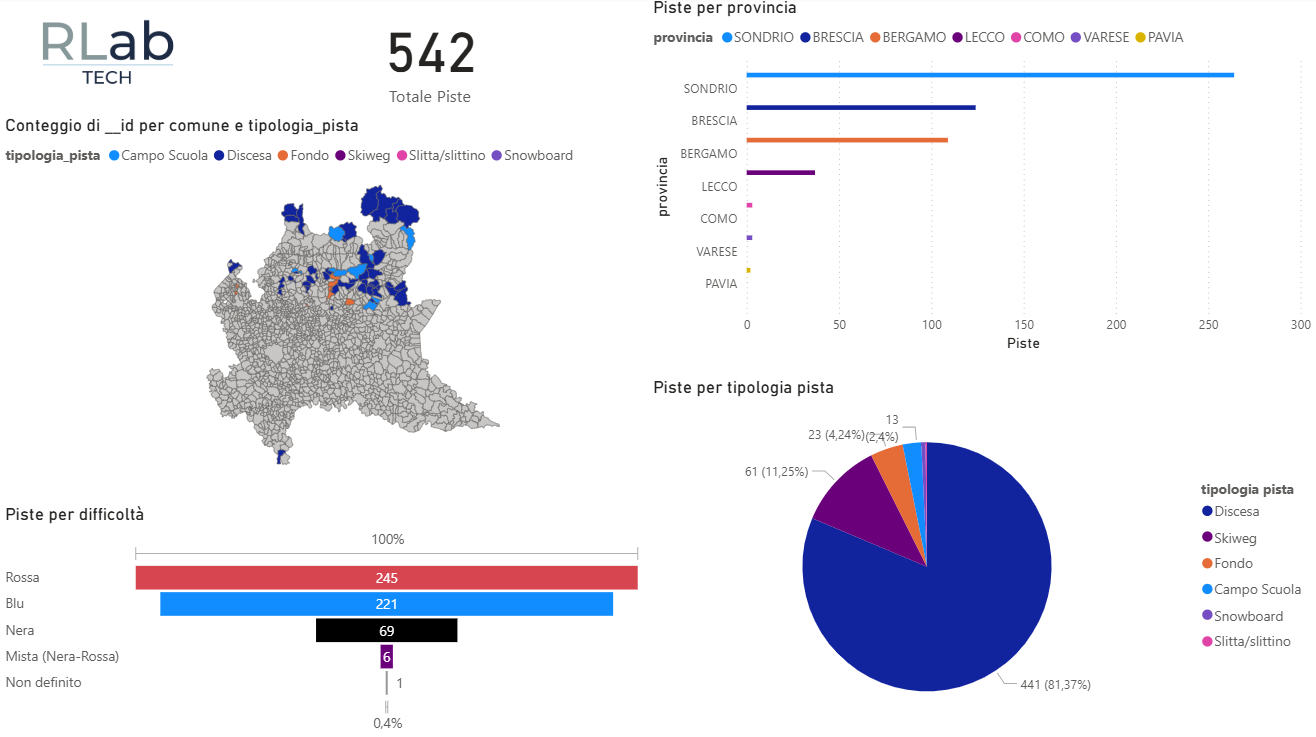

The page's visual inventory and layout, read from the dashboard file:
{"tool":"powerbi","page":{"name":"Globale","canvas":[1280,720],"ordinal":0},"visuals":[{"type":"shapeMap","fields":{"Category":["Piste-da-sci_8c8w-y5ce.comune"],"Value":["CountNonNull(Piste-da-sci_8c8w-y5ce.__id)"],"Series":["Piste-da-sci_8c8w-y5ce.tipologia_pista"]},"box":[0,114.8,630.3,359.9],"z":0},{"type":"clusteredBarChart","title":"Piste per provincia","fields":{"Category":["Piste-da-sci_8c8w-y5ce.provincia"],"Y":["CountNonNull(Piste-da-sci_8c8w-y5ce.__id)"],"Series":["Piste-da-sci_8c8w-y5ce.provincia"]},"box":[630.3,0,649.7,350.2],"z":1000},{"type":"pieChart","fields":{"Y":["CountNonNull(Piste-da-sci_8c8w-y5ce.__id)"],"Category":["Piste-da-sci_8c8w-y5ce.tipologia_pista"]},"box":[630.3,369.6,649.7,350.2],"z":2000},{"type":"image","box":[0,0,206.2,114.8],"z":3000},{"type":"card","fields":{"Values":["Count(Piste-da-sci_8c8w-y5ce.__id)"]},"box":[206.2,0,424.1,114.8],"z":4000},{"type":"funnel","fields":{"Category":["Piste-da-sci_8c8w-y5ce.difficolta_pista"],"Y":["CountNonNull(Piste-da-sci_8c8w-y5ce.__id)"]},"box":[0,493.1,630.3,226.6],"z":5000}]}

Visuals, with their boxes in screenshot pixels (x1, y1, x2, y2), scaled from the page's 1280x720 canvas onto the 1316x737 screenshot:
shapeMap - Piste-da-sci_8c8w-y5ce.comune x CountNonNull(Piste-da-sci_8c8w-y5ce.__id): locate(0, 118, 648, 486)
"Piste per provincia" clusteredBarChart: locate(648, 0, 1315, 358)
pieChart - CountNonNull(Piste-da-sci_8c8w-y5ce.__id) x Piste-da-sci_8c8w-y5ce.tipologia_pista: locate(648, 378, 1315, 736)
image: locate(0, 0, 212, 118)
card - Count(Piste-da-sci_8c8w-y5ce.__id): locate(212, 0, 648, 118)
funnel - Piste-da-sci_8c8w-y5ce.difficolta_pista x CountNonNull(Piste-da-sci_8c8w-y5ce.__id): locate(0, 505, 648, 736)
